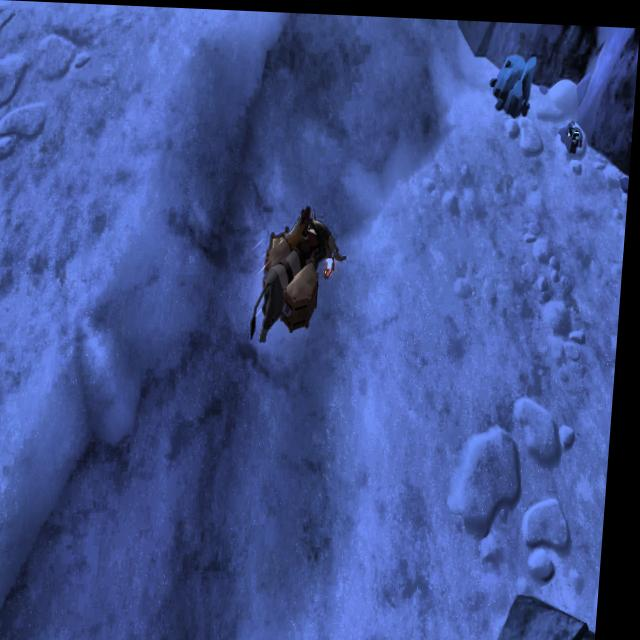rock_t4: (488, 47, 539, 109)
